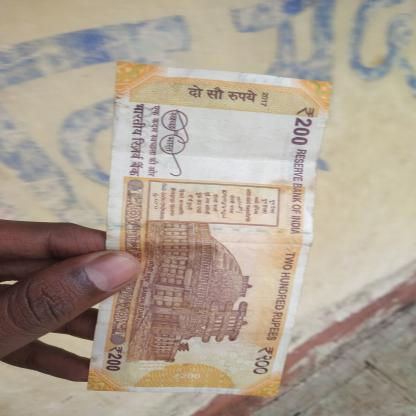New200Back: (100, 64, 326, 392)
